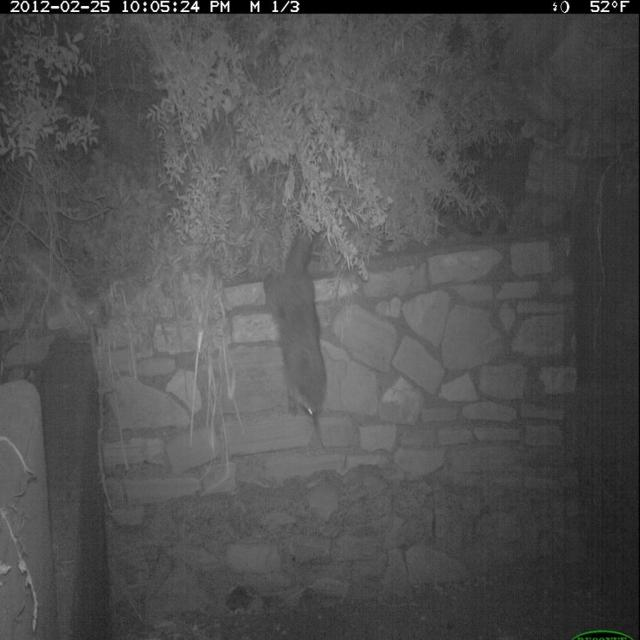raccoon: (257, 217, 336, 435)
